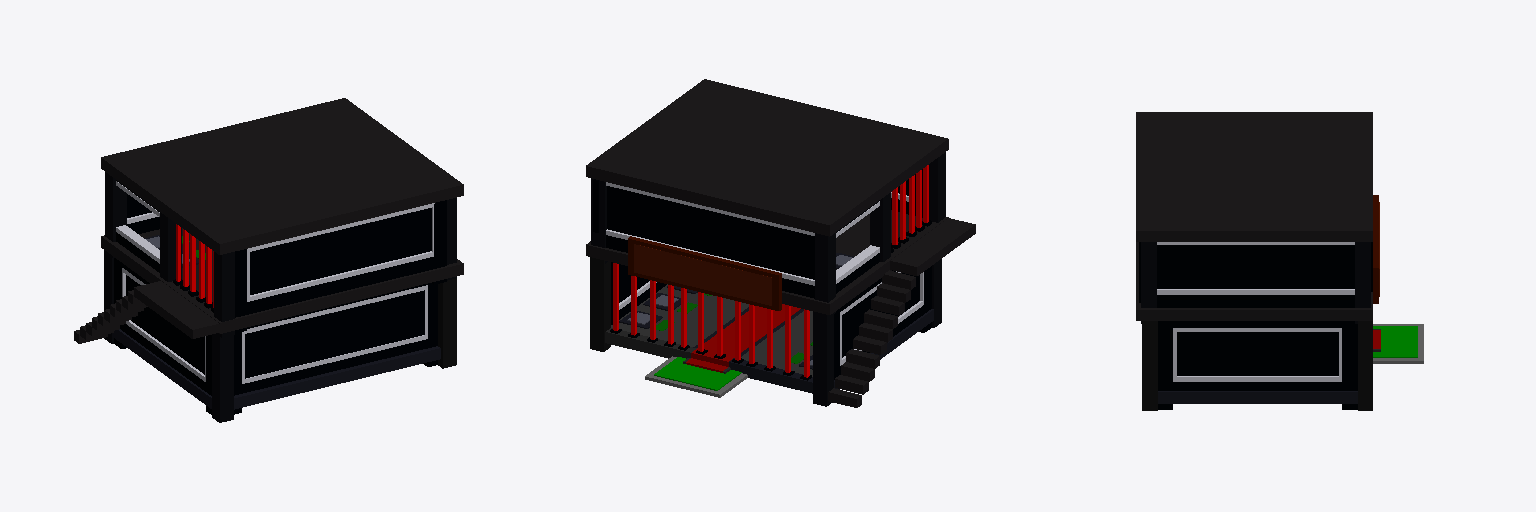
Rendered from stealBR.obj.
3 views of the same model, side by side, from view 1: azimuth 30°, elevation 25°; view 2: azimuth 150°, elevation 25°; view 3: azimuth 270°, elevation 25° (orthographic).
Visible parts, largest first — view 1: Part1, Part96, Part35, Part97, Part98, Part29, Part12, Part77, Part76, Part92, Part65, Part56 (+16 smaller); view 2: Part1, Part48, Playernamebase1, Part97, Part12, Part100, Signspart1, Part86, Part75, Part101, Part109, Part53 (+13 smaller); view 3: Part1, Part38, Part66, Part97, Part88, Part40, Part70, Part65, Part75, Collectzone1, Part73, Part39 (+9 smaller).
Boxes of the visible parts, box(x1,y1,x2,y2) form: Part1: box(101, 98, 463, 254); Part96: box(245, 290, 424, 378); Part35: box(250, 208, 431, 294); Part97: box(101, 228, 463, 333); Part98: box(234, 346, 440, 409); Part29: box(235, 256, 434, 316); Part12: box(134, 281, 219, 338); Part77: box(126, 275, 204, 374); Part76: box(212, 334, 233, 422); Part92: box(242, 337, 437, 393); Part65: box(438, 278, 456, 368); Part56: box(214, 252, 234, 337); Part1: box(586, 79, 948, 236); Part48: box(607, 186, 814, 279); Playernamebase1: box(634, 244, 771, 305); Part97: box(586, 210, 948, 314); Part12: box(890, 218, 975, 275); Part100: box(611, 284, 748, 346); Signspart1: box(628, 236, 781, 310); Part86: box(813, 311, 833, 406); Part75: box(590, 257, 610, 351); Part101: box(691, 304, 800, 366); Part109: box(741, 311, 812, 376); Part53: box(815, 233, 835, 317); Part1: box(1136, 112, 1372, 241); Part38: box(1157, 242, 1372, 291); Part66: box(1177, 332, 1338, 375); Part97: box(1136, 242, 1372, 320); Part88: box(1158, 391, 1357, 403); Part40: box(1157, 295, 1354, 307); Part70: box(1158, 382, 1357, 390); Part65: box(1142, 321, 1157, 410); Part75: box(1358, 321, 1372, 410); Collectzone1: box(1373, 326, 1417, 357); Part73: box(1159, 321, 1357, 327); Part39: box(1157, 289, 1354, 294).
Bounding box in the file's own units: 72.07 × 46.25 × 66.42.